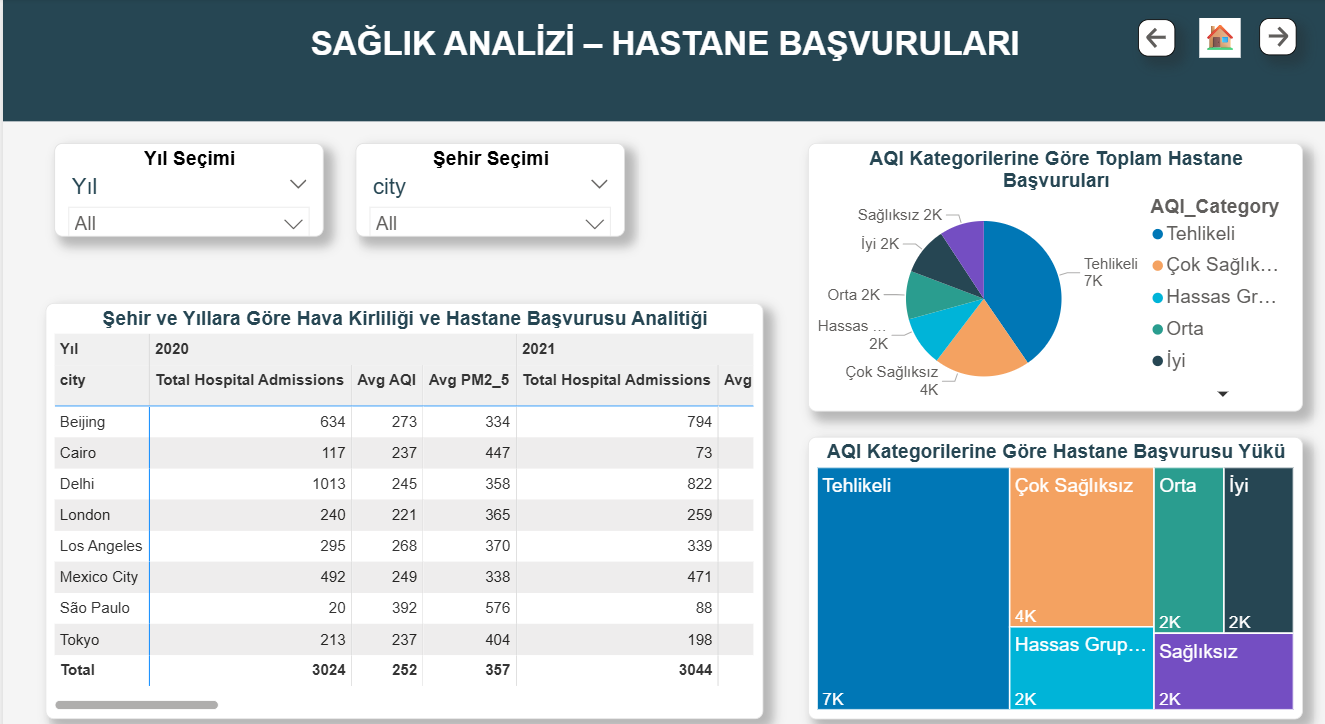

What the dashboard file says about the page in this screenshot:
{"tool":"powerbi","page":{"name":"Sağlık Analizi","canvas":[1280,720],"ordinal":1},"visuals":[{"type":"shape","box":[0,0,1278.9,119],"z":0},{"type":"textbox","box":[0,0,1278.3,117.4],"z":1000},{"type":"slicer","title":"Yıl Seçimi","fields":{"Values":["DimDate.Yıl"]},"box":[50,140,260,90],"z":2000},{"type":"slicer","title":"Şehir Seçimi","fields":{"Values":["DimLocation.city"]},"box":[340,140,260,90],"z":3000},{"type":"pieChart","title":"AQI Kategorilerine Göre Toplam Hastane Başvuruları","fields":{"Category":["DimAQICategory.AQI_Category"],"Y":["air_quality_health_dataset.Total Hospital Admissions"]},"box":[776.9,139.9,477.8,259.4],"z":4000},{"type":"treemap","title":"AQI Kategorilerine Göre Hastane Başvurusu Yükü","fields":{"Group":["air_quality_health_dataset.AQI_Category"],"Values":["air_quality_health_dataset.Total Hospital Admissions"]},"box":[776.9,423.5,477.8,272.7],"z":5000},{"type":"pivotTable","title":"Şehir ve Yıllara Göre Hava Kirliliği ve Hastane Başvurusu Analitiği","fields":{"Rows":["DimLocation.city"],"Columns":["DimDate.Yıl"],"Values":["air_quality_health_dataset.Total Hospital Admissions","air_quality_health_dataset.Avg AQI","air_quality_health_dataset.Avg PM2_5"]},"box":[41,294.4,692.5,401.7],"z":6000},{"type":"actionButton","title":"🏠","box":[1154.6,19.3,40,38],"z":7000},{"type":"actionButton","box":[1095.4,20.5,36,36],"z":8000},{"type":"actionButton","box":[1212.5,19.3,36,36],"z":9000}]}

Visuals, with their boxes in screenshot pixels (x1, y1, x2, y2), scaled from the page's 1280x720 canvas onto the 1325x724 screenshot:
shape: <region>0, 0, 1324, 120</region>
textbox: <region>0, 0, 1323, 118</region>
"Yıl Seçimi" slicer: <region>52, 141, 321, 231</region>
"Şehir Seçimi" slicer: <region>352, 141, 621, 231</region>
"AQI Kategorilerine Göre Toplam Hastane Başvuruları" pieChart: <region>804, 141, 1299, 402</region>
"AQI Kategorilerine Göre Hastane Başvurusu Yükü" treemap: <region>804, 426, 1299, 700</region>
"Şehir ve Yıllara Göre Hava Kirliliği ve Hastane Başvurusu Analitiği" pivotTable: <region>42, 296, 759, 700</region>
"🏠" actionButton: <region>1195, 19, 1237, 58</region>
actionButton: <region>1134, 21, 1171, 57</region>
actionButton: <region>1255, 19, 1292, 56</region>
